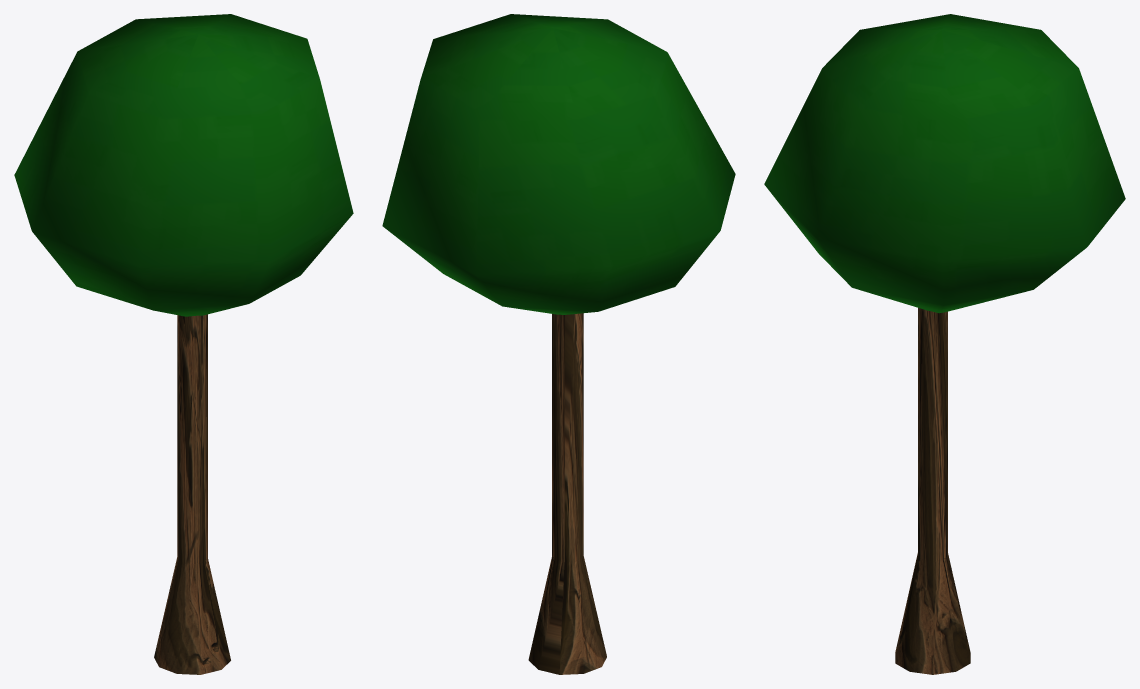
File: tree5.FBX
3 views of the same model, side by side, from view 1: azimuth 30°, elevation 25°; view 2: azimuth 150°, elevation 25°; view 3: azimuth 270°, elevation 25° (orthographic). The views are drawn at different scales.
Visible parts, largest first — view 1: Cylinder001; view 2: Cylinder001; view 3: Cylinder001.
Part boxes in pixels (x1,y1,x2,y2): Cylinder001: (14,14,353,674); Cylinder001: (382,14,735,674); Cylinder001: (764,14,1125,674).
Bounding box in the file's own units: 227 × 441 × 228.
